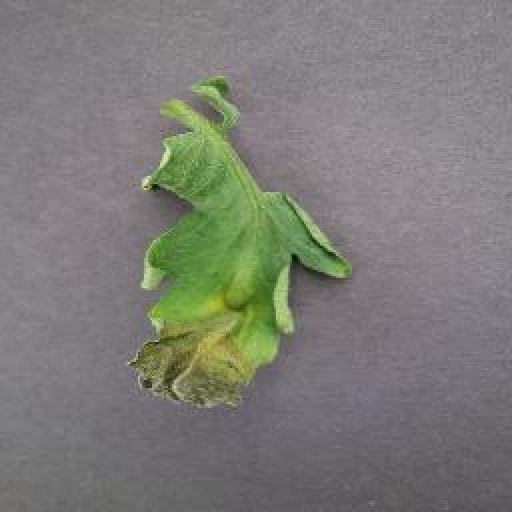disease_tomato: (132, 124, 350, 414)
